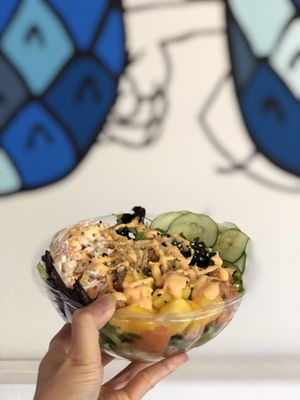curry: (0, 5, 299, 398)
sandwich: (37, 206, 252, 363)
